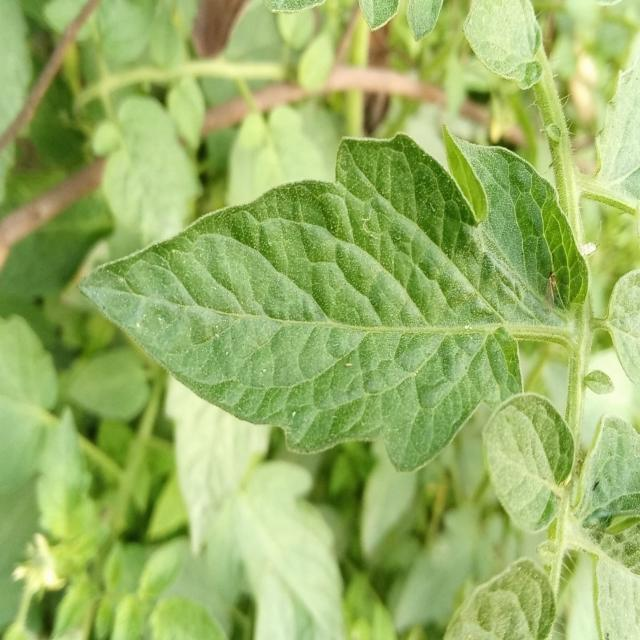Healthy: (76, 63, 638, 567), (475, 386, 589, 537)
